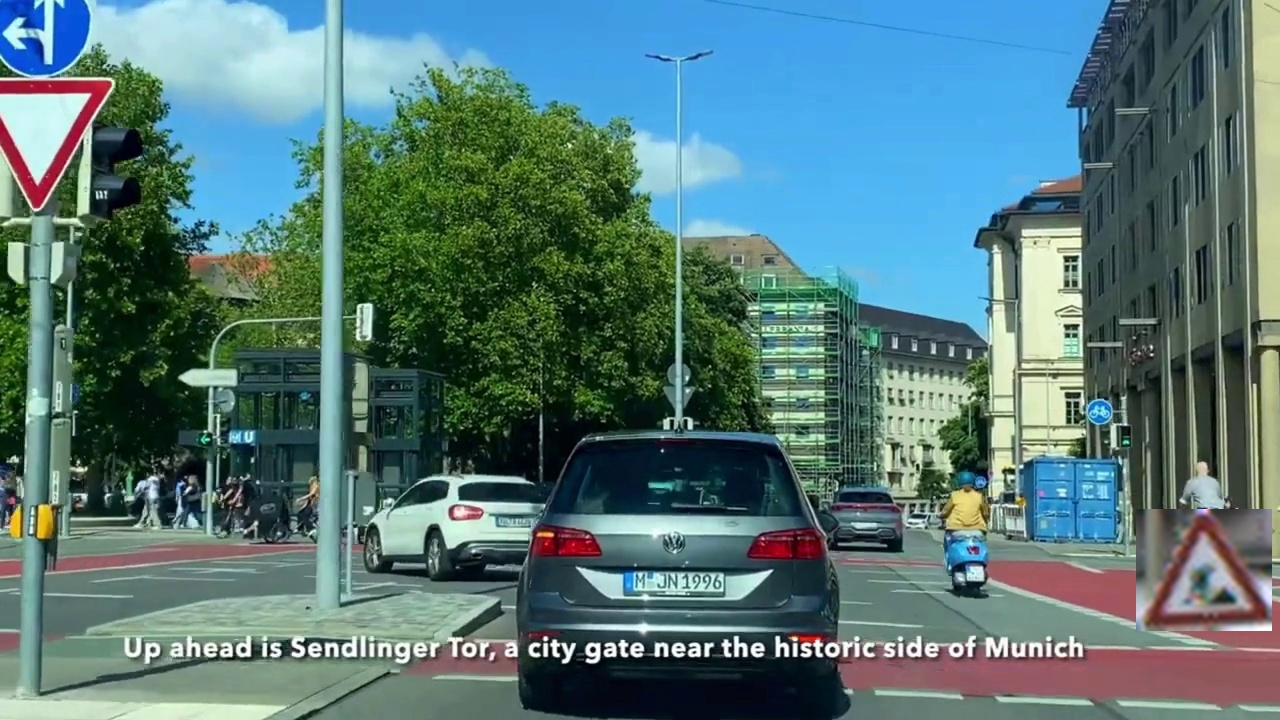Road work: (1136, 509, 1272, 631)
